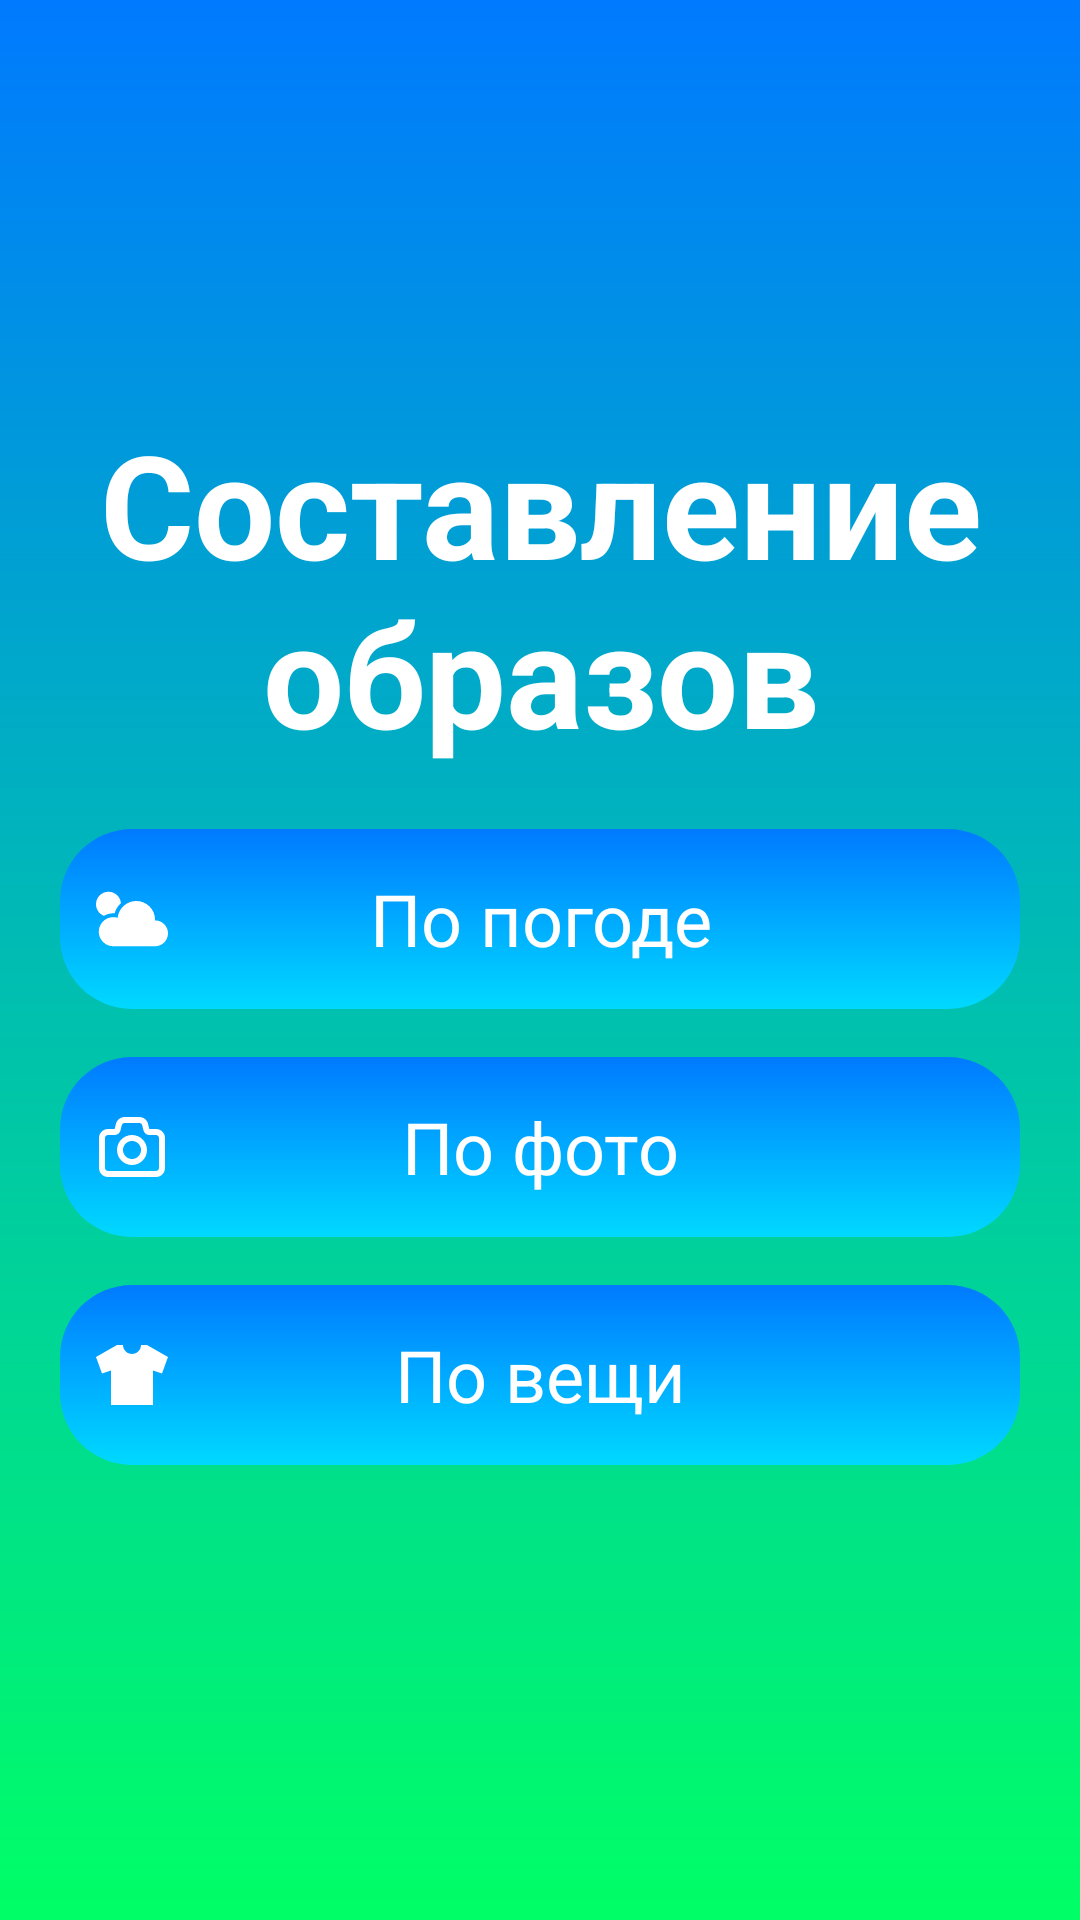

Where to tap for icons on this 1080x1920 app screen, as (x=x, y=y):
photo: (x=132, y=1147)
shirt: (x=132, y=1375)
weather: (x=132, y=919)
